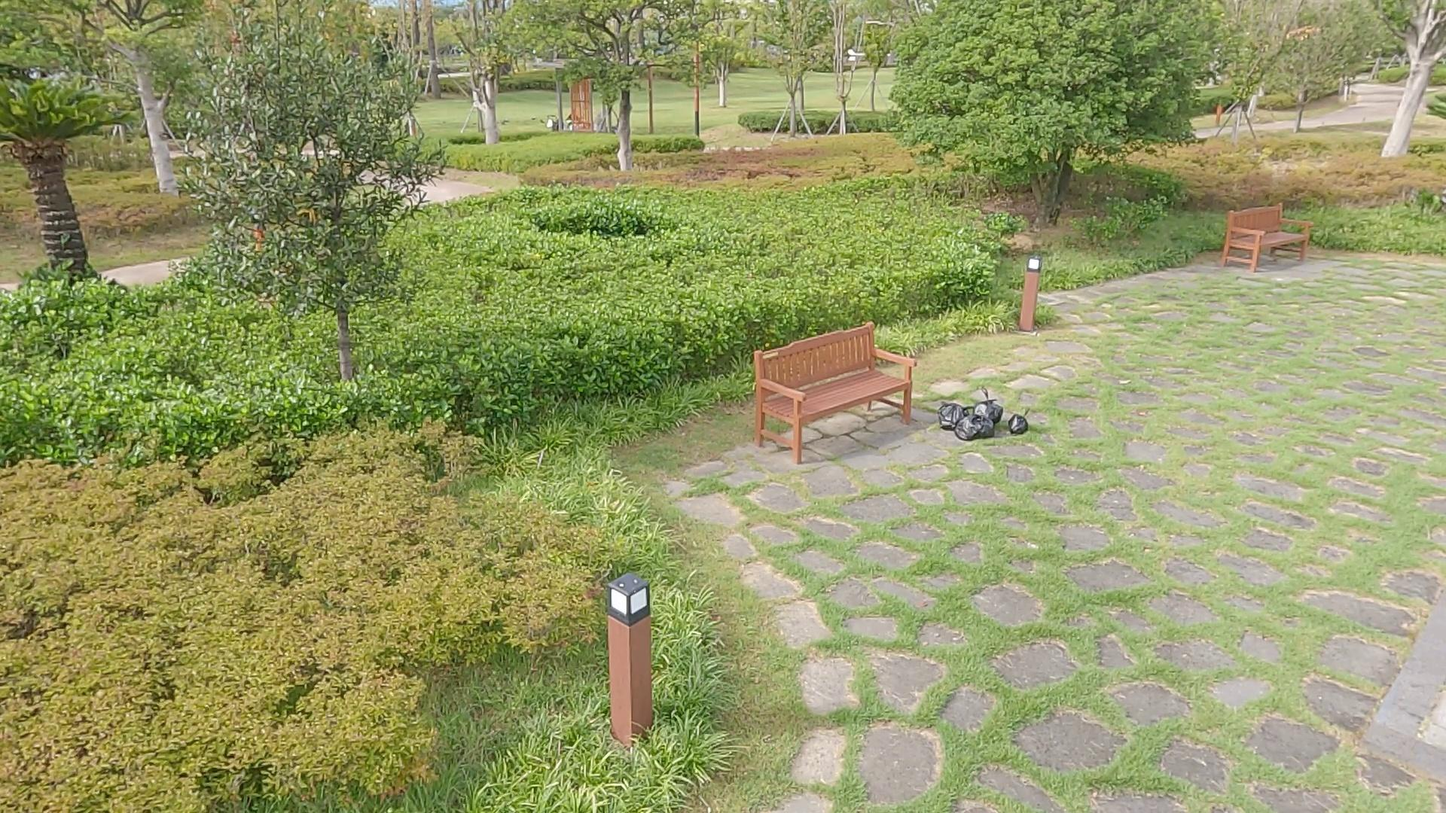trash: (954, 411, 995, 441), (974, 387, 1004, 426), (937, 400, 973, 431), (1008, 413, 1029, 435)
